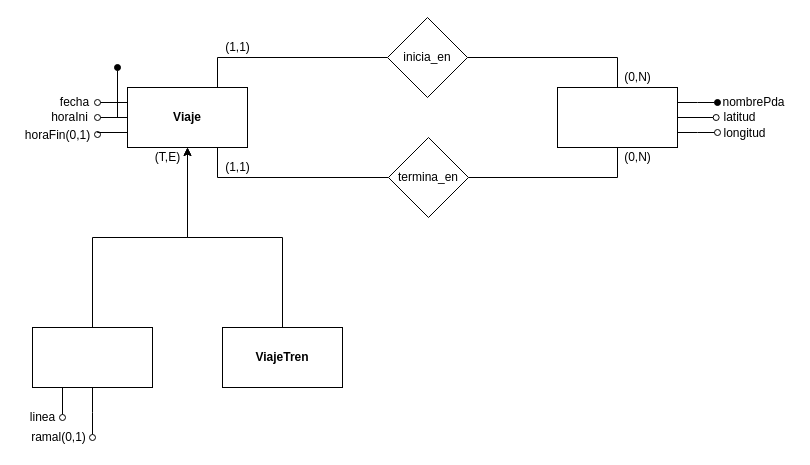
Image size: 810x465. Some labels were removed from this diagram. Each missing label, with the centre of its shape:
"Parada" belongs at pixel 617 117.
"ViajeColectivo" belongs at pixel 92 357.
